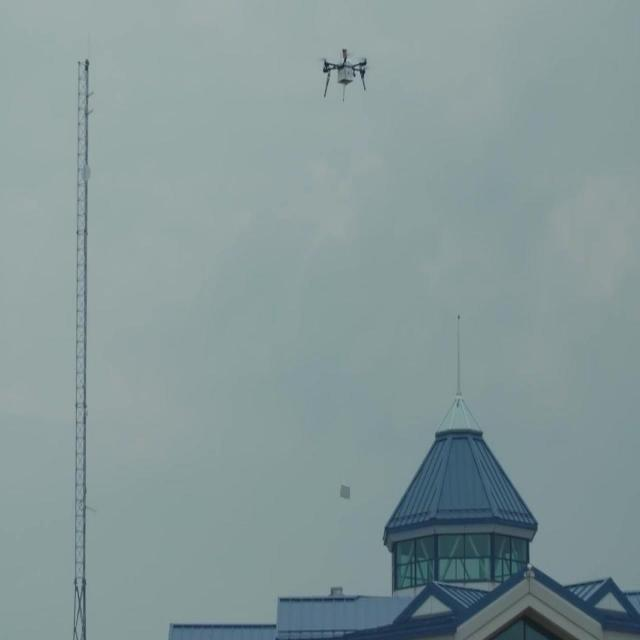UAV: (319, 48, 369, 101)
